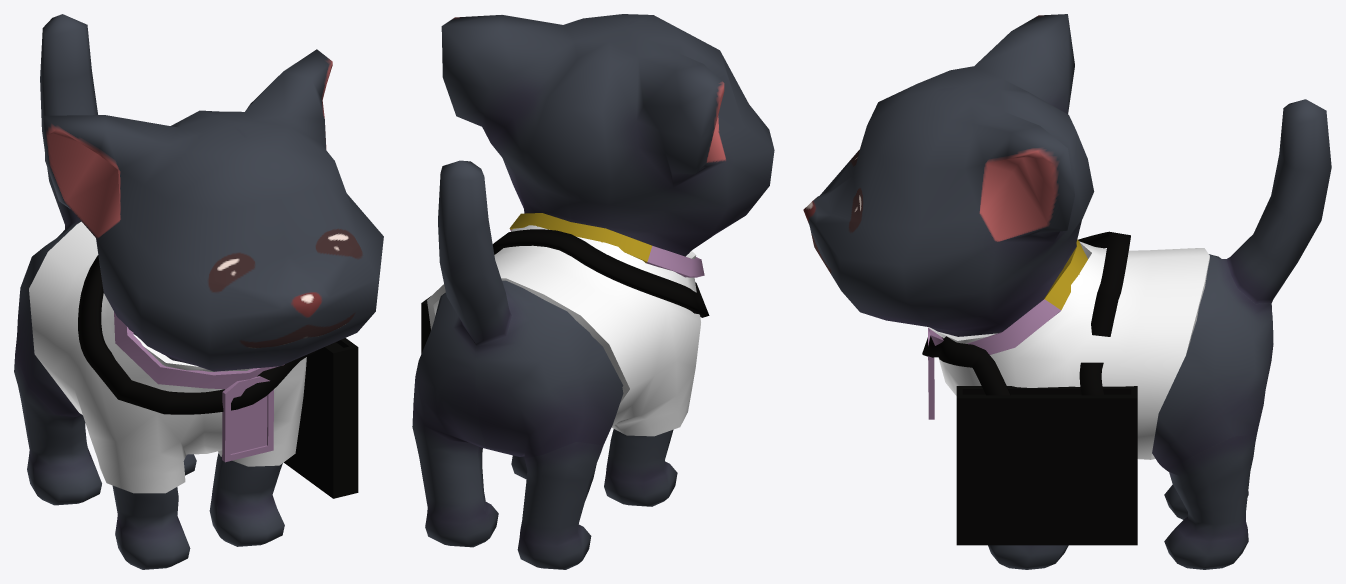
Rendered from Student Cat02_03.fbx.
3 renders of one model, left to right at view 1: azimuth 30°, elevation 25°; view 2: azimuth 150°, elevation 25°; view 3: azimuth 270°, elevation 25°, orthographic. The views are drawn at different scales.
Parts seen in each view (by area): view 1: Cat_Base002, tshirt, ToteBag, id; view 2: Cat_Base002, tshirt, ToteBag, id; view 3: Cat_Base002, ToteBag, tshirt, id.
Part boxes in pixels (left/top/right/bottom): Cat_Base002: left=14, top=14, right=383, bottom=569; tshirt: left=29, top=221, right=306, bottom=493; ToteBag: left=78, top=255, right=358, bottom=498; id: left=114, top=312, right=284, bottom=462; Cat_Base002: left=412, top=14, right=774, bottom=569; tshirt: left=427, top=225, right=700, bottom=436; ToteBag: left=421, top=229, right=709, bottom=353; id: left=509, top=213, right=704, bottom=277; Cat_Base002: left=803, top=14, right=1331, bottom=569; ToteBag: left=922, top=231, right=1137, bottom=545; tshirt: left=928, top=241, right=1209, bottom=459; id: left=928, top=239, right=1087, bottom=419.
Size of the model in its own units: 1.75 by 2.83 by 2.68.
Materials: 5 (1 with a texture image).
